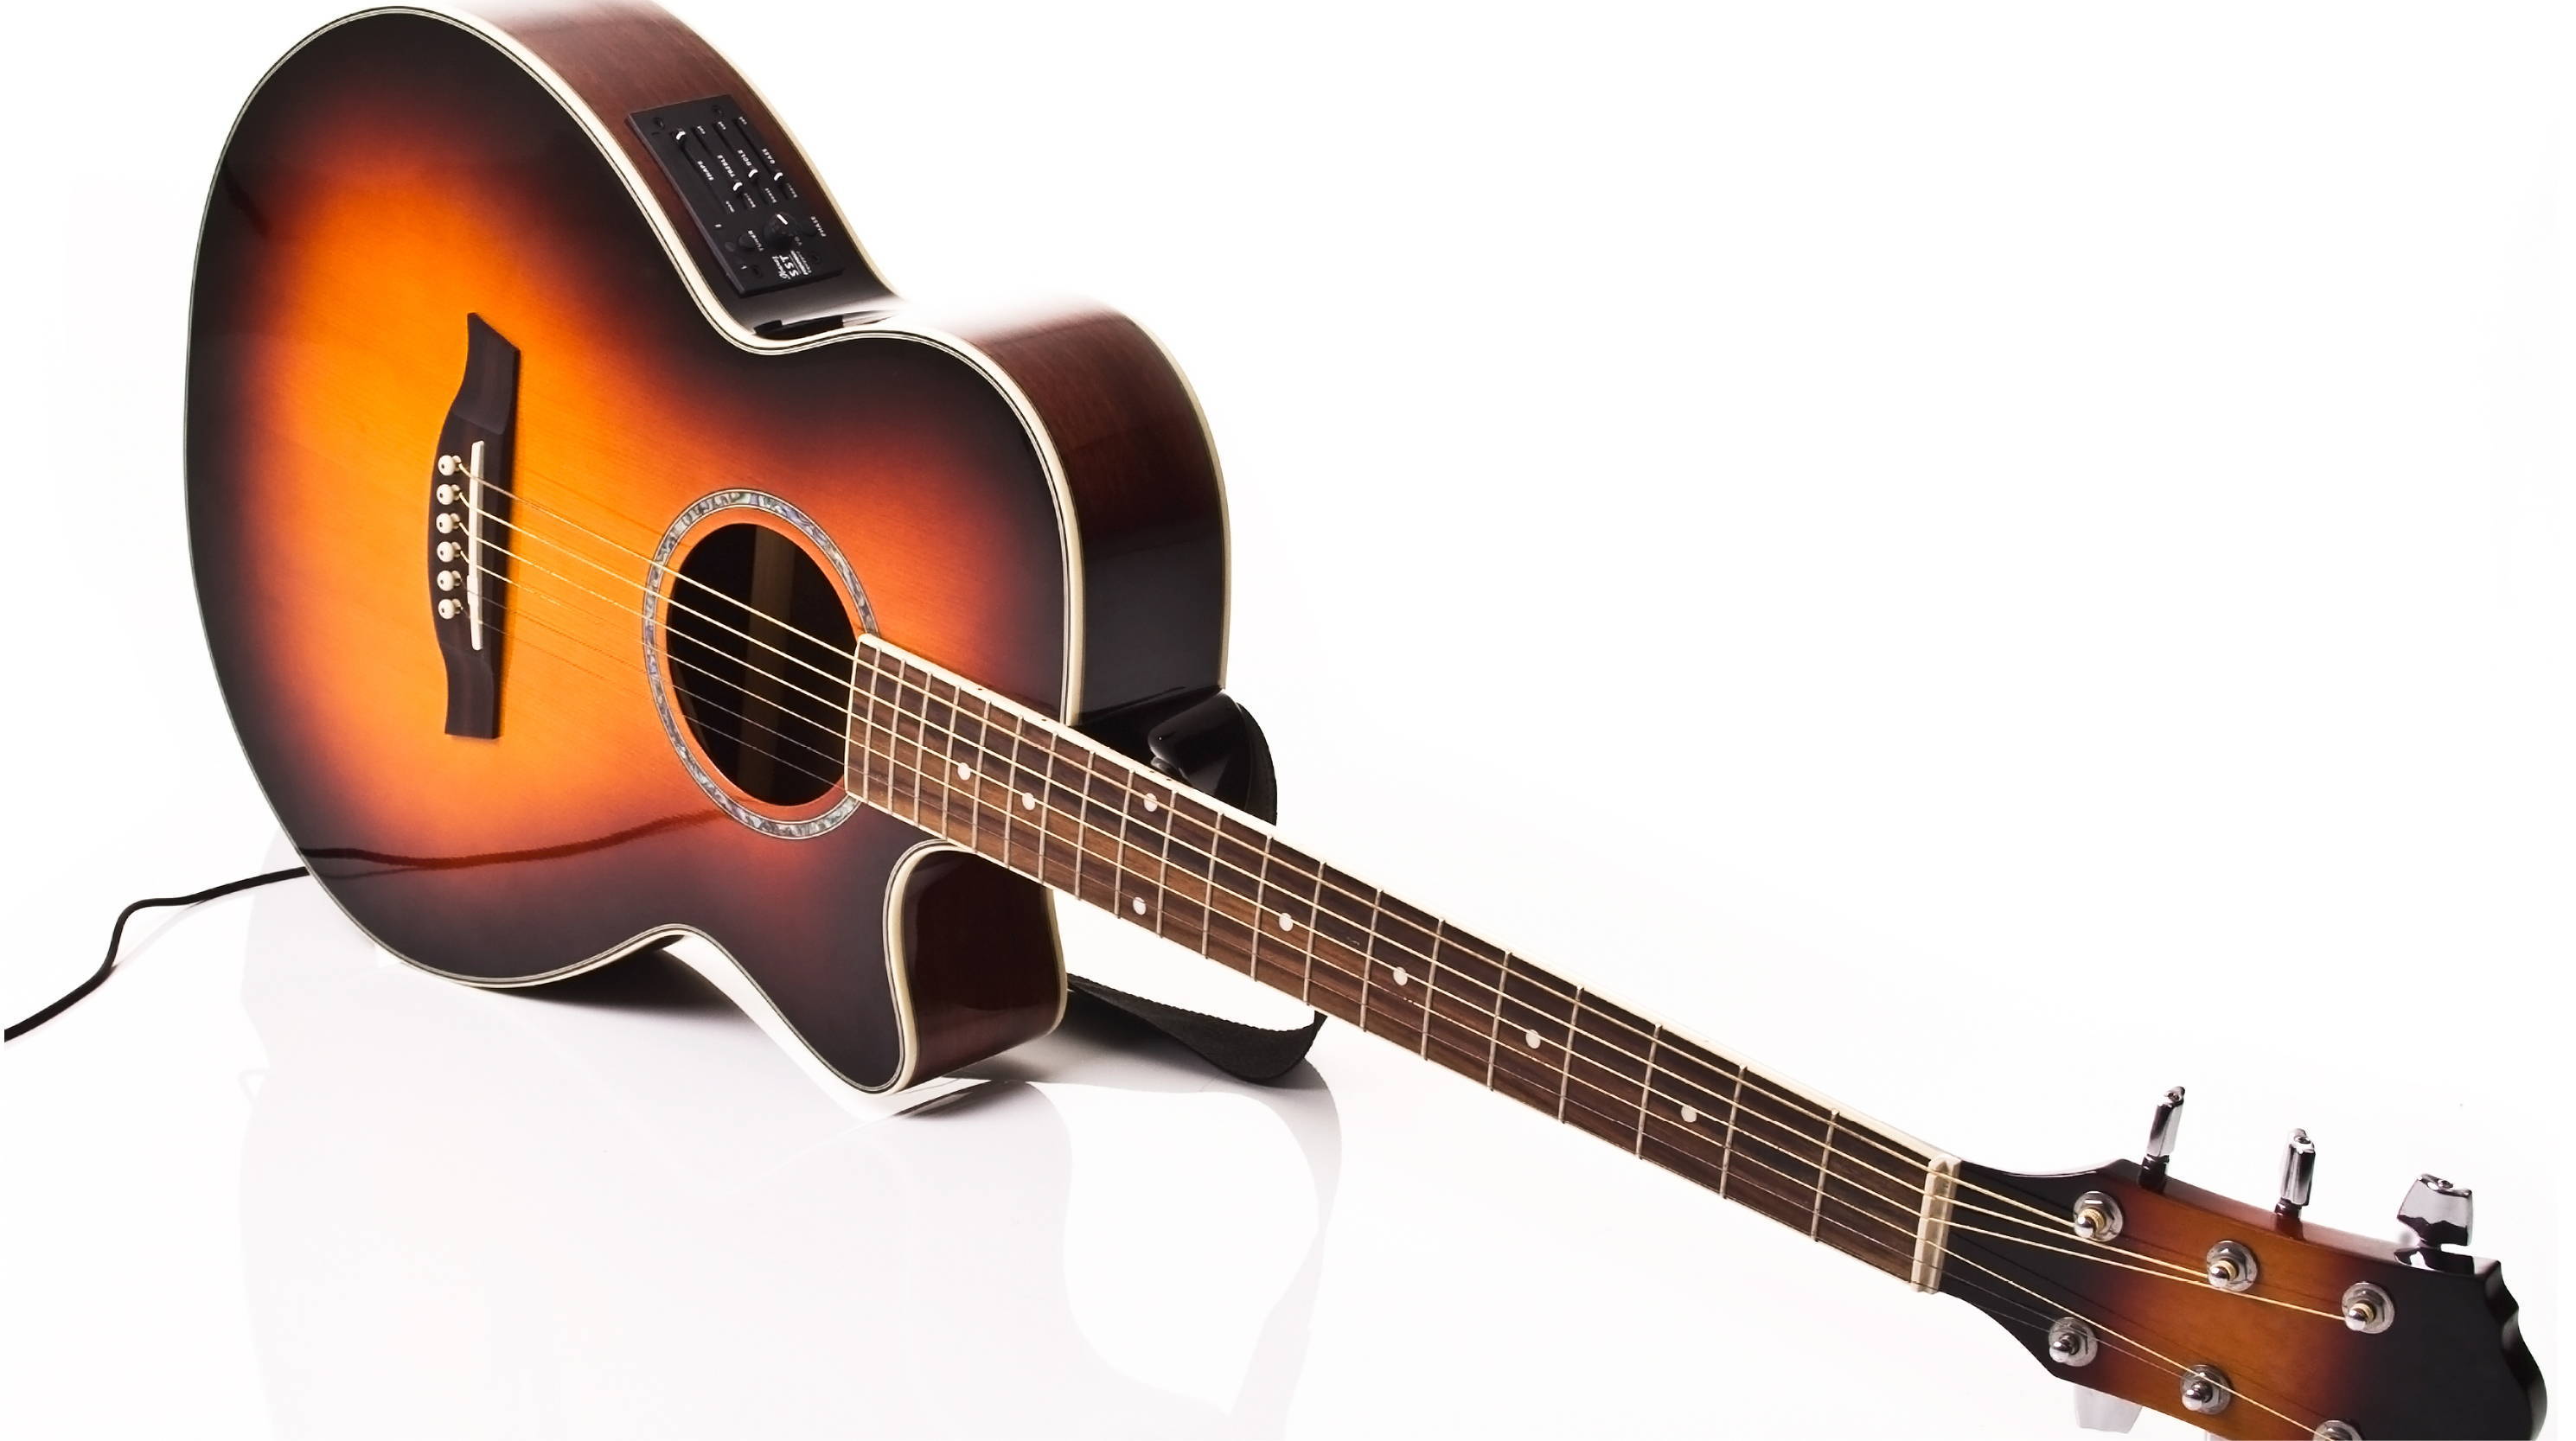guitar: (166, 0, 2526, 1416)
